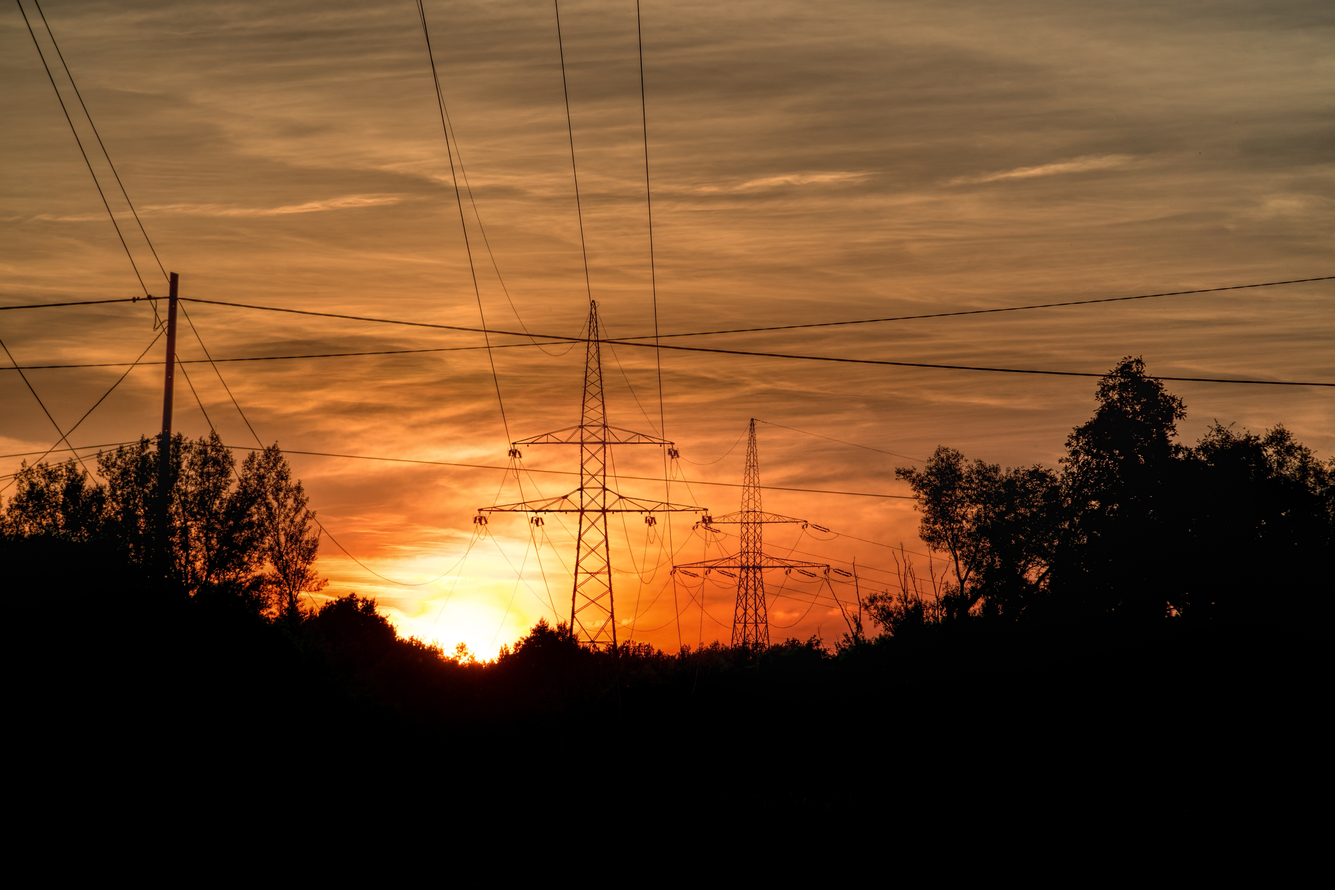insulator: (831, 567, 853, 579), (810, 522, 830, 534), (795, 568, 818, 578), (678, 569, 700, 579), (700, 524, 721, 534), (717, 569, 738, 578), (643, 514, 658, 525)
